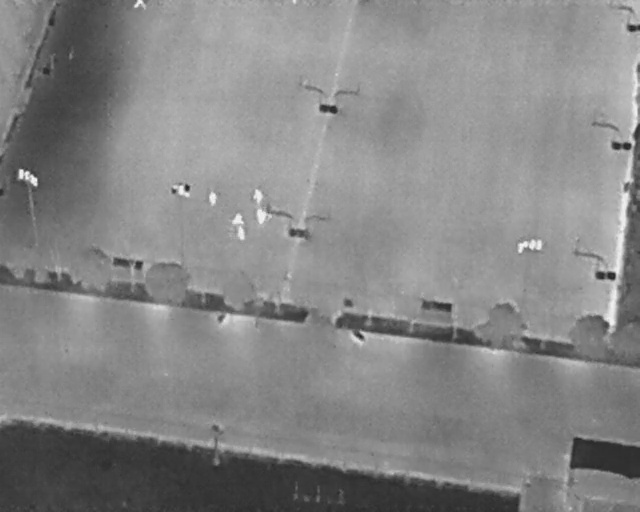Person: (232, 212, 245, 226), (254, 188, 264, 206), (208, 191, 217, 207), (236, 225, 245, 240), (134, 0, 147, 10), (259, 210, 266, 224), (256, 208, 261, 221)
